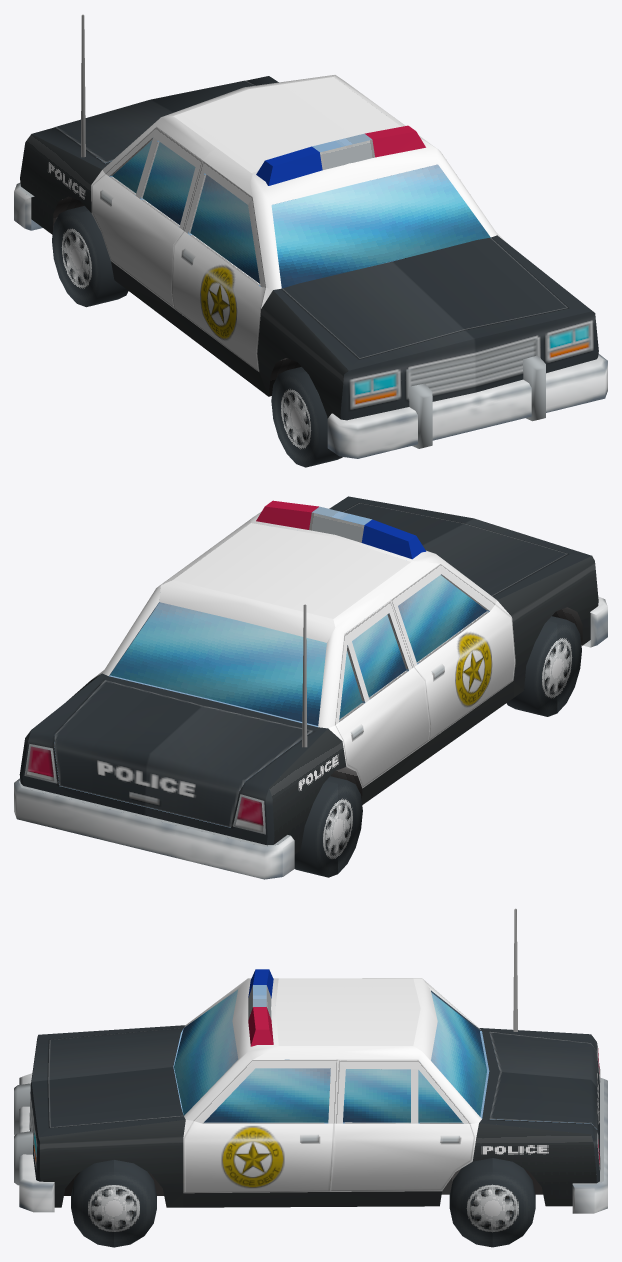
File: police_car.glb
3 views of the same model, one above another, from view 1: azimuth 30°, elevation 25°; view 2: azimuth 150°, elevation 25°; view 3: azimuth 270°, elevation 25° (orthographic). The views are drawn at different scales.
Visible parts, largest first — view 1: PoliceCar; view 2: PoliceCar; view 3: PoliceCar.
Part boxes in pixels (x1=…): PoliceCar: x1=14, y1=14, x2=607, y2=467; PoliceCar: x1=14, y1=496, x2=607, y2=879; PoliceCar: x1=14, y1=908, x2=607, y2=1247.
Bounding box in the file's own units: 2.44 × 2.37 × 5.39.
Materials: 13 (13 with a texture image).
